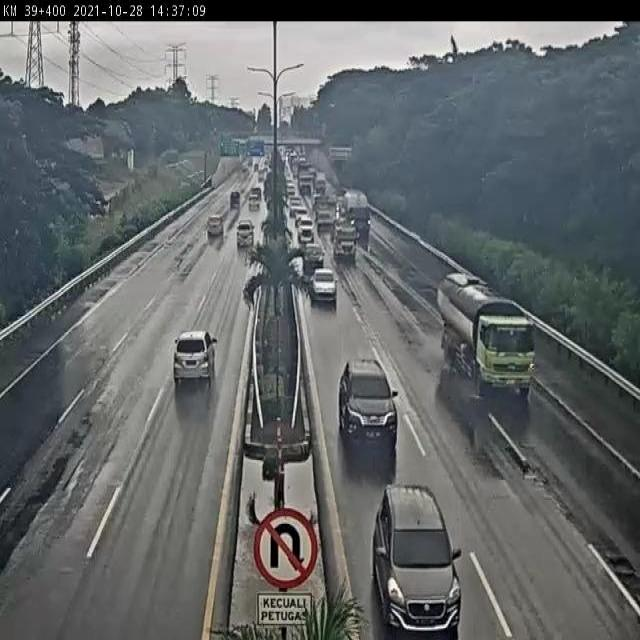Car: (371, 484, 463, 640), (336, 356, 402, 451), (172, 329, 218, 388), (308, 270, 336, 300), (302, 241, 326, 269), (236, 219, 256, 249), (298, 216, 315, 243)
Truck: (437, 272, 536, 399), (343, 191, 371, 235), (330, 219, 358, 259)
Van: (204, 214, 225, 237)
